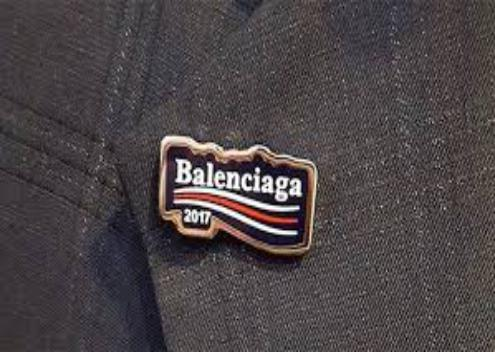BALENCIAGA: (172, 152, 304, 199)
